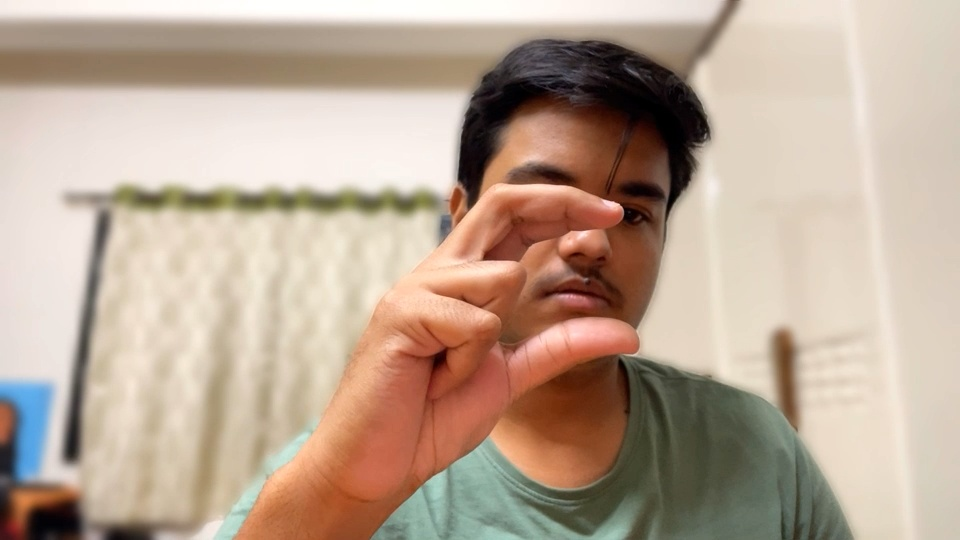No: (352, 168, 662, 452)
